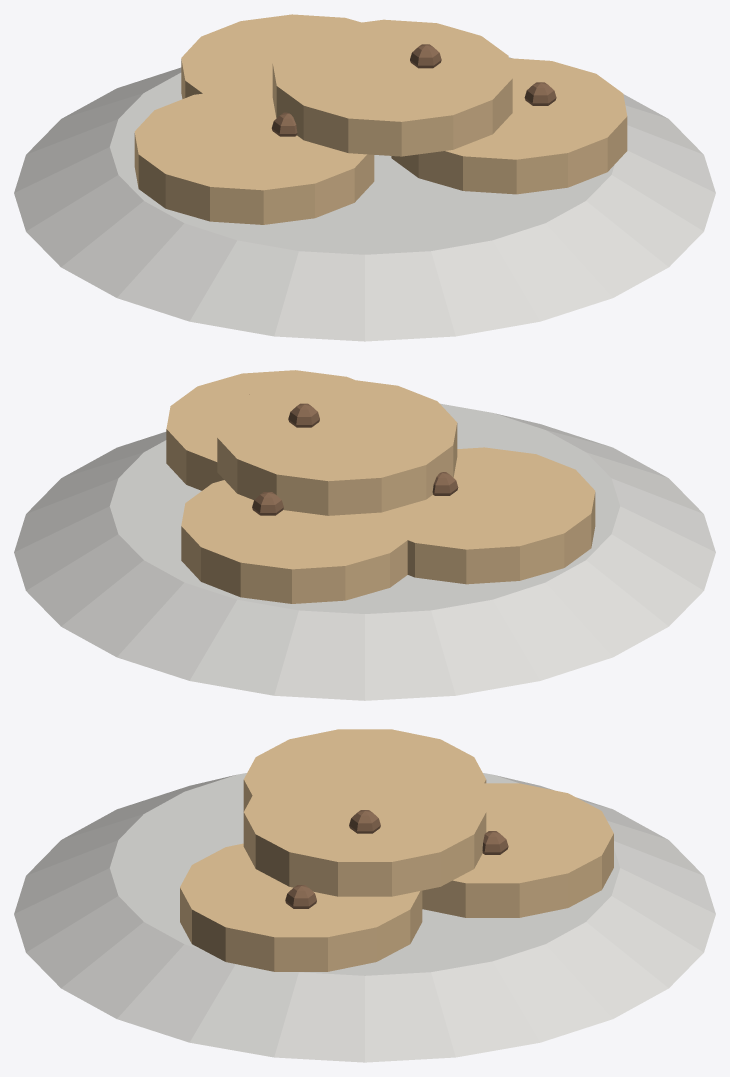
File: galletas.glb
3 renders of one model, top to bottom at view 1: azimuth 30°, elevation 25°; view 2: azimuth 150°, elevation 25°; view 3: azimuth 270°, elevation 25°, orthographic.
Parts seen in each view (by area): view 1: galletas; view 2: galletas; view 3: galletas.
Boxes of the visible parts, <box> form: galletas: <box>14,14,715,341</box>; galletas: <box>14,370,715,700</box>; galletas: <box>14,729,715,1062</box>.
Bounding box in the file's own units: 0.22 × 0.046 × 0.22.
